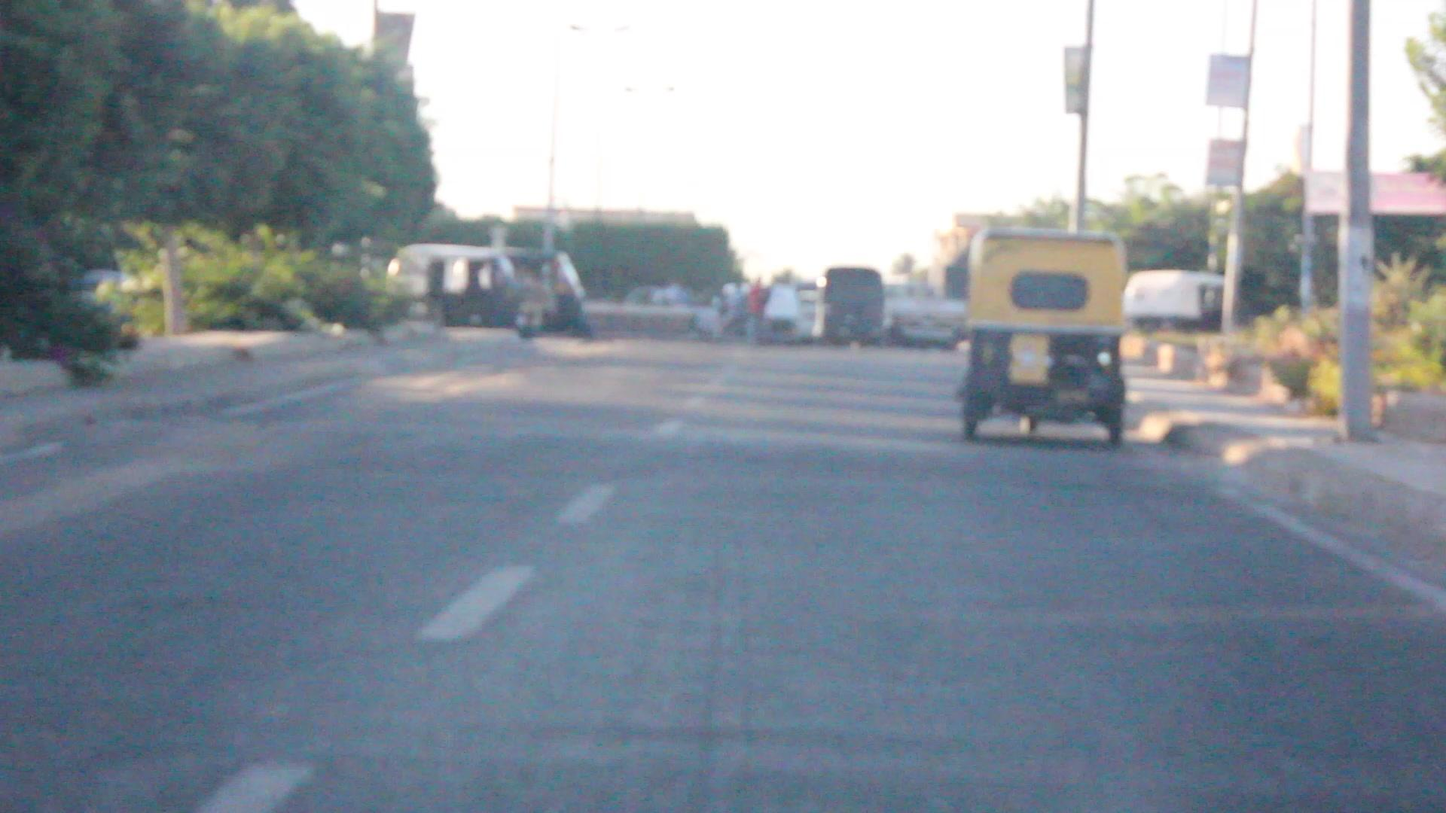Bump: (136, 423, 1214, 493)
